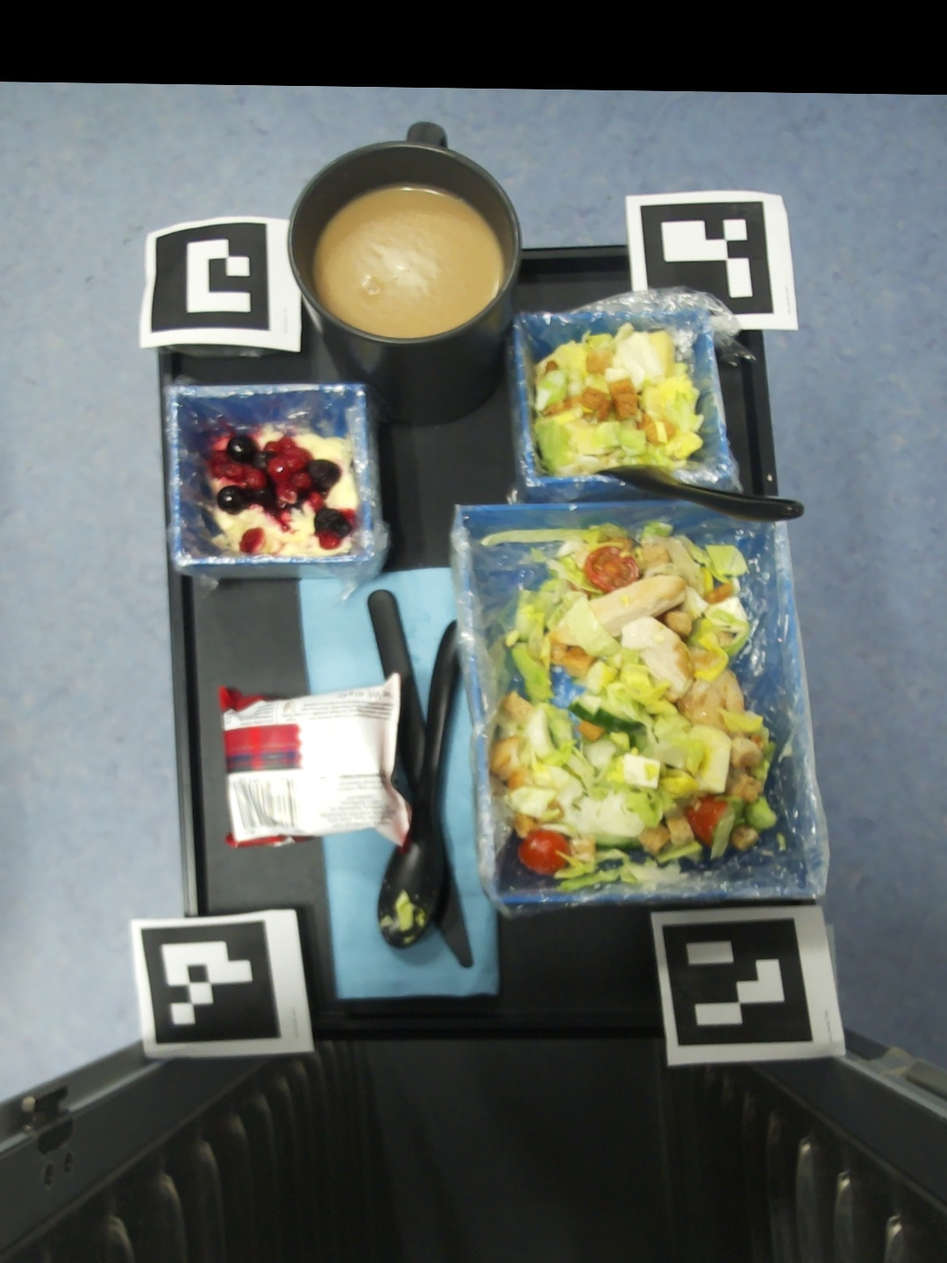coffee_cup: (287, 121, 522, 426)
cookie: (218, 672, 412, 853)
salad_main: (479, 522, 778, 891), (777, 833, 786, 850), (761, 850, 775, 857)
side_salad: (533, 321, 704, 478)
vanilla_pudding_with_fruits: (206, 423, 360, 557)
